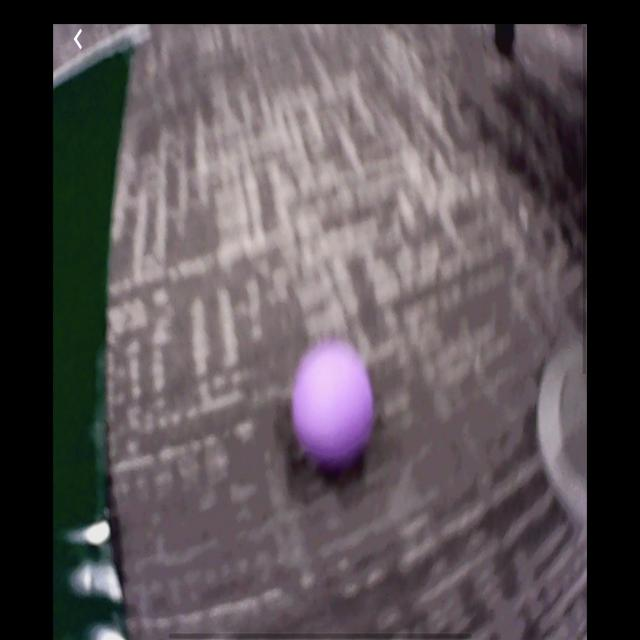ball: (294, 343, 375, 462)
